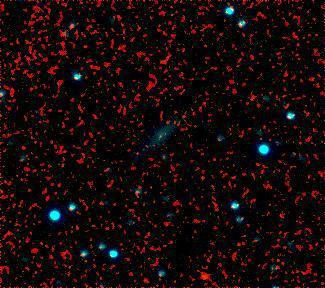star: (191, 259, 221, 288)
